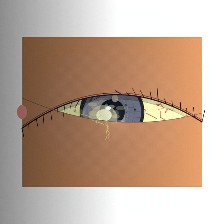corneal_ulcer: (80, 100, 126, 137)
